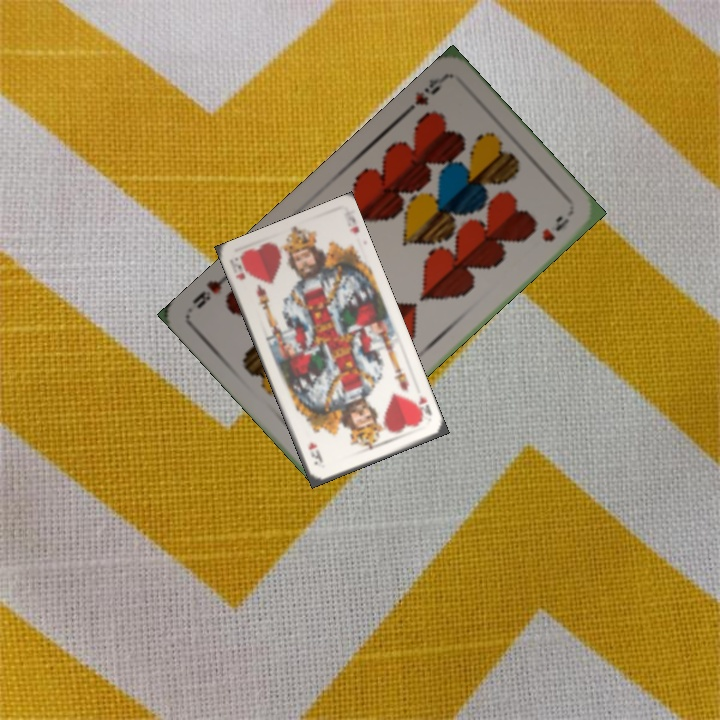H9: (400, 72, 448, 118)
HK: (410, 392, 434, 424), (230, 258, 248, 282)
